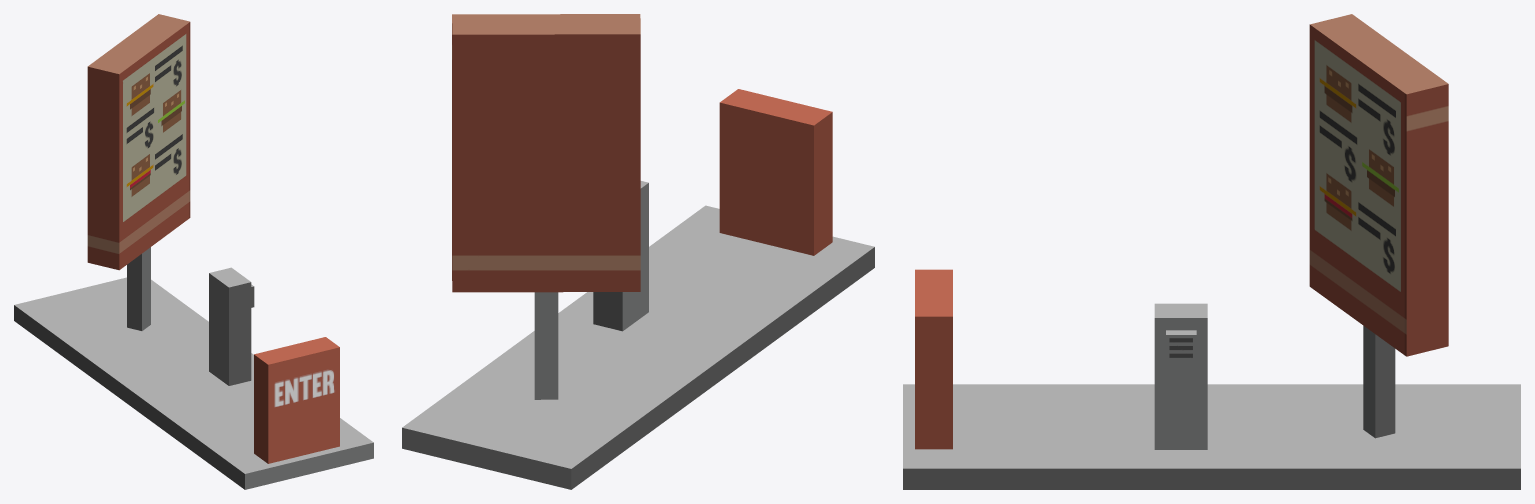
The model's file is burger_shop_drivethru_mesh.fbx.
3 renders of one model, left to right at view 1: azimuth 30°, elevation 25°; view 2: azimuth 150°, elevation 25°; view 3: azimuth 270°, elevation 25°, orthographic. The views are drawn at different scales.
Parts seen in each view (by area): view 1: burger_shop_drivethru_mesh; view 2: burger_shop_drivethru_mesh; view 3: burger_shop_drivethru_mesh.
Boxes of the visible parts, left/top/right/bottom form: burger_shop_drivethru_mesh: left=14, top=14, right=373, bottom=489; burger_shop_drivethru_mesh: left=402, top=14, right=874, bottom=489; burger_shop_drivethru_mesh: left=903, top=14, right=1520, bottom=489.
Size of the model in its own units: 2.54 by 5.42 by 7.62.
Materials: 1 (1 with a texture image).
